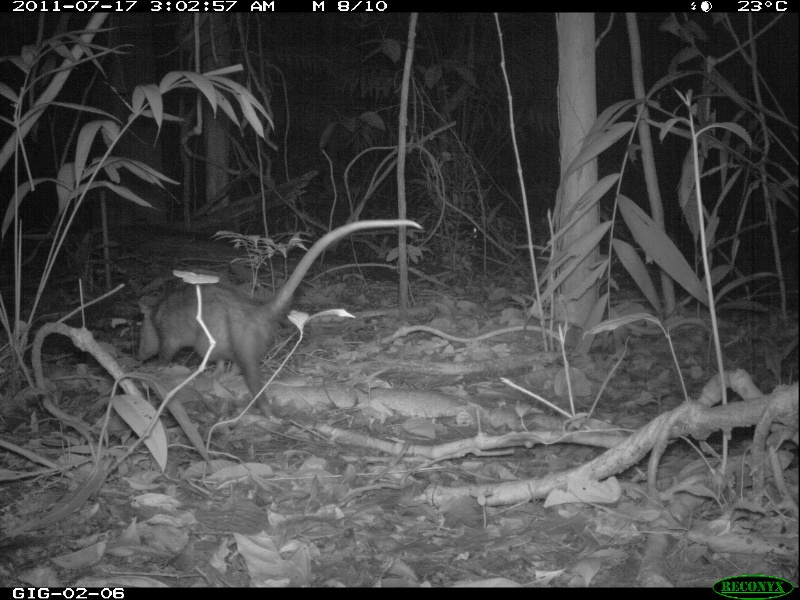opossum: (132, 213, 428, 425)
